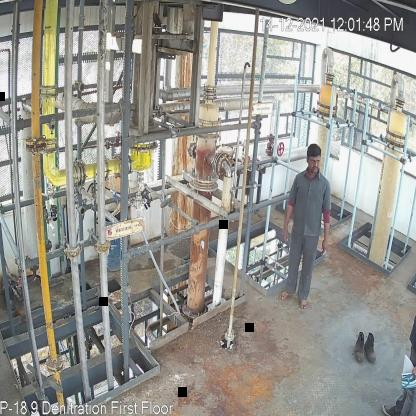no_shoes: (277, 290, 294, 300), (297, 298, 308, 312)
shoes: (353, 330, 368, 364), (365, 333, 377, 362)
